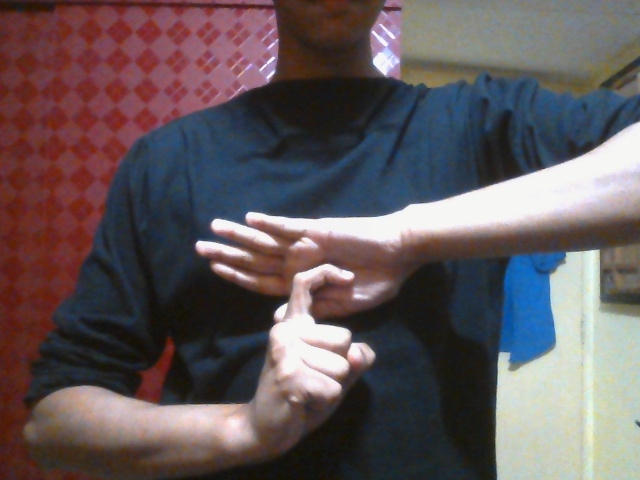R: (192, 210, 407, 452)
